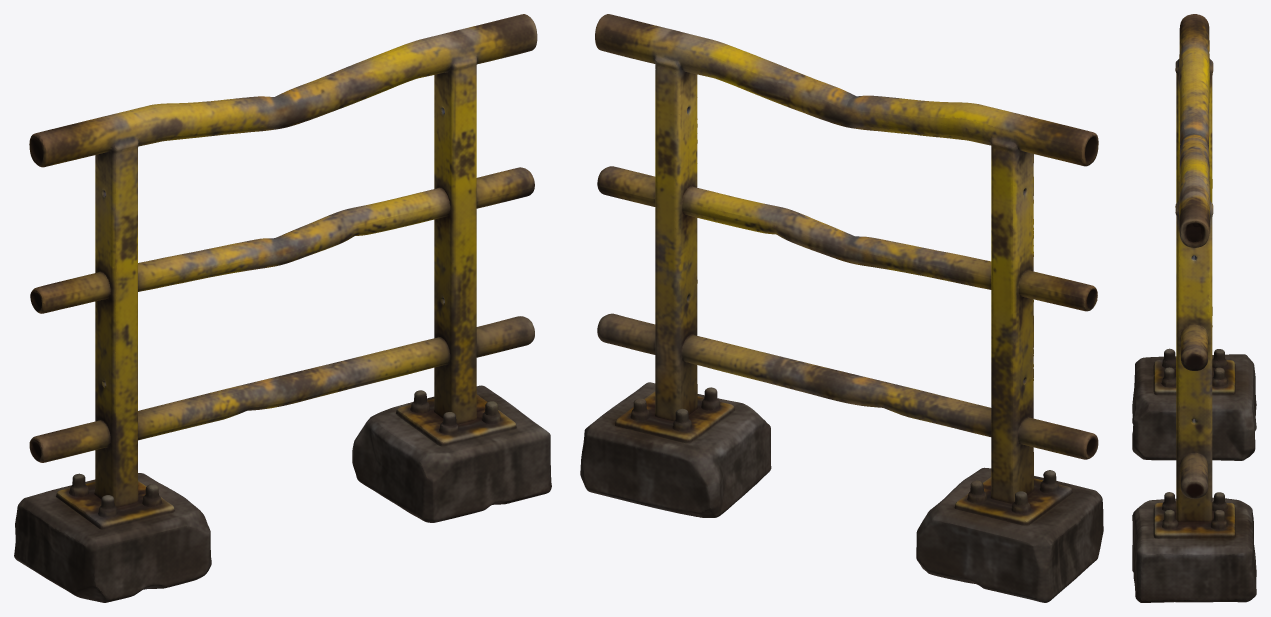
The model's file is railing_ruin.glb.
3 renders of one model, left to right at view 1: azimuth 30°, elevation 25°; view 2: azimuth 150°, elevation 25°; view 3: azimuth 270°, elevation 25°, orthographic. The views are drawn at different scales.
Parts seen in each view (by area): view 1: world; view 2: world; view 3: world.
Part boxes in pixels (x1,y1,x2,y2): world: (14,14,551,602); world: (580,14,1103,602); world: (1132,14,1256,602).
Size of the model in its own units: 1.2 by 1.05 by 0.3047.
Materials: 1 (1 with a texture image).
